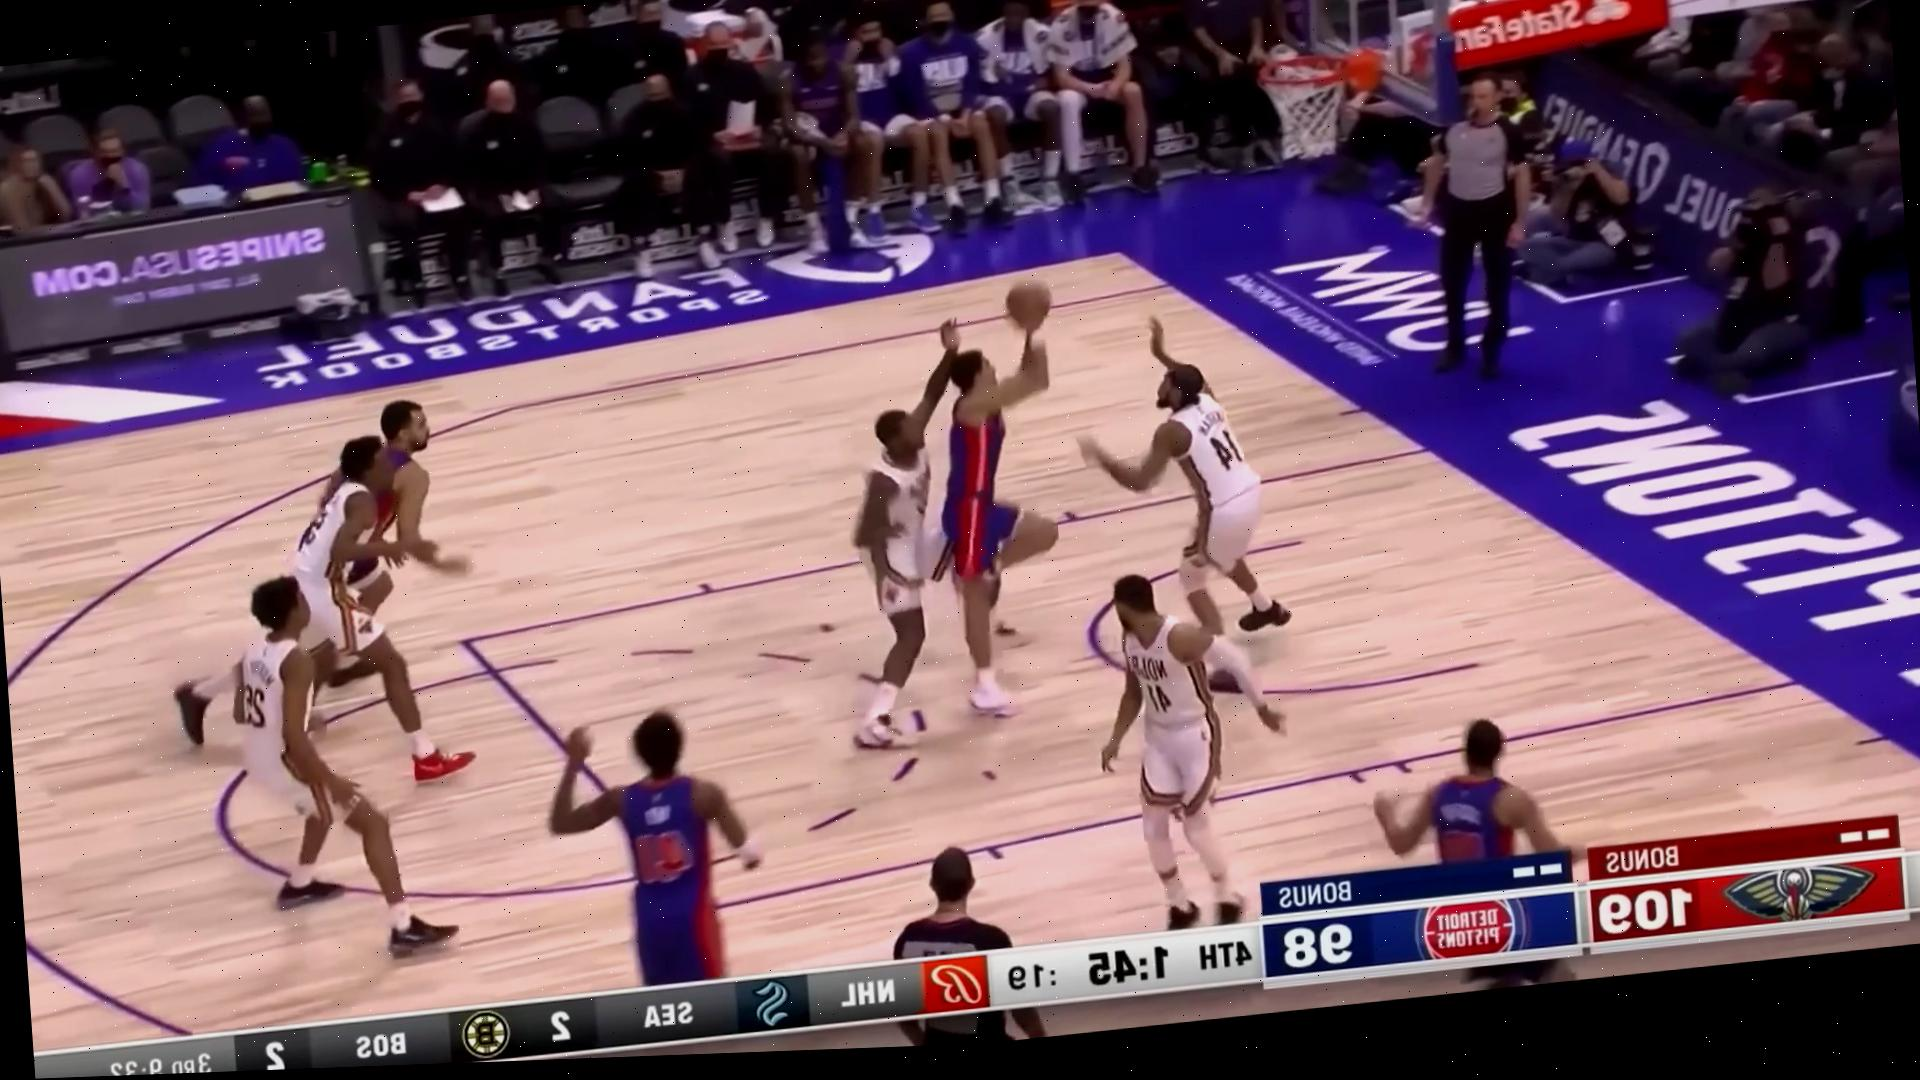no_foul: (782, 264, 1126, 757)
